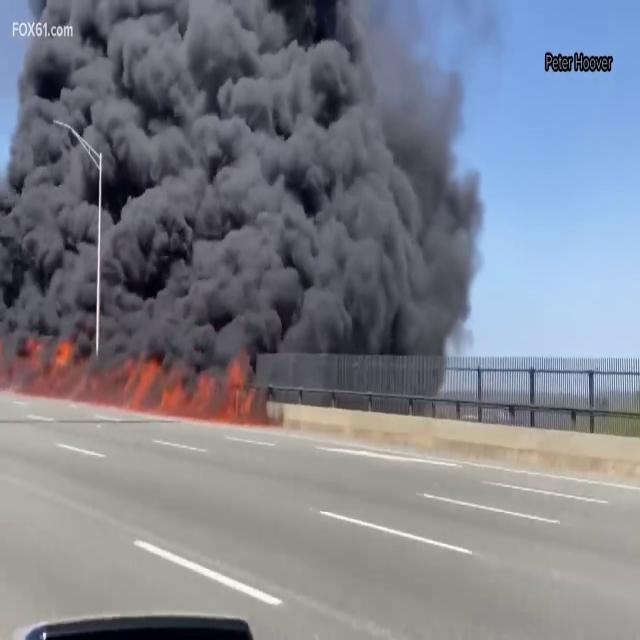Fire: (0, 351, 262, 417), (90, 350, 258, 420)
Smoke: (0, 0, 489, 381)
